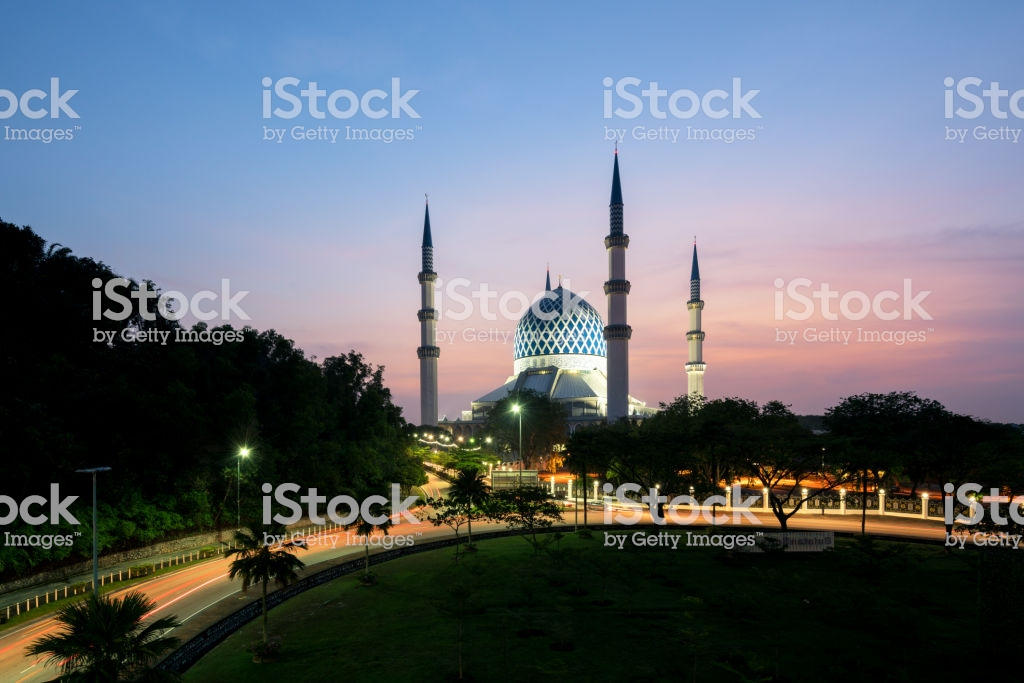Mosque: (385, 163, 709, 431)
